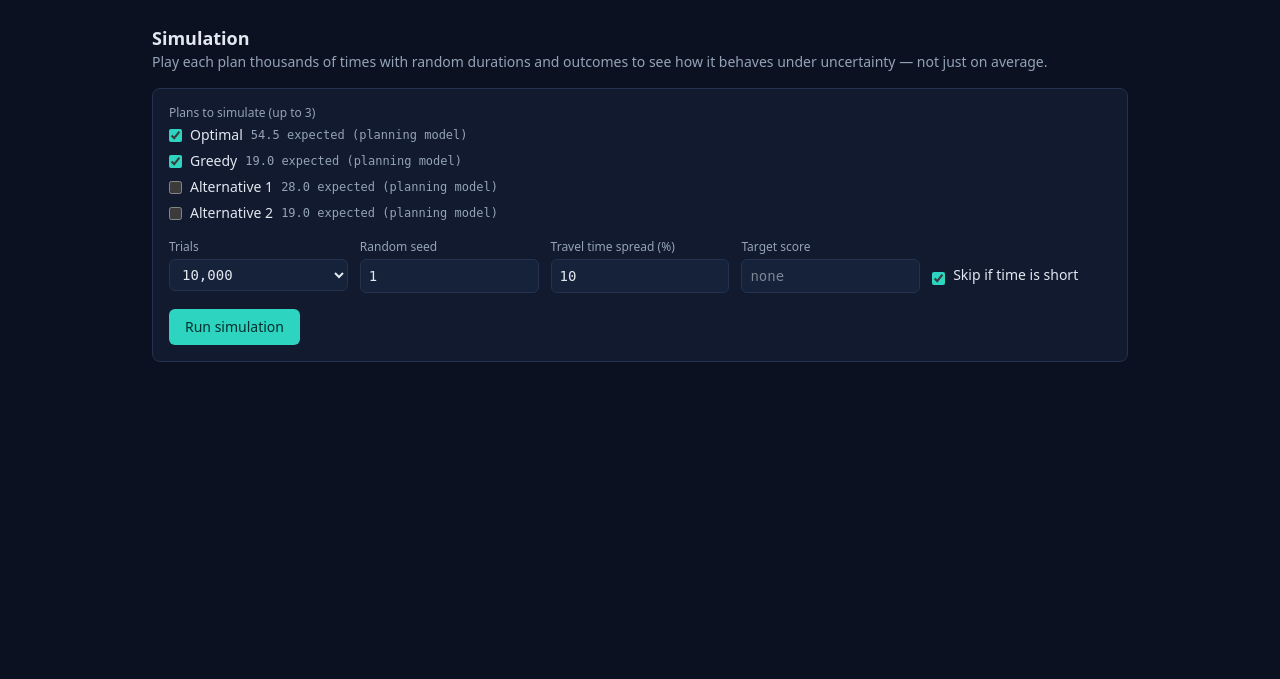
Test: SimulationPage › simulates the optimal and greedy plans by default
Expected: the checkbox labelled "Optimal 54.5 expected (planning model)" is checked, [169,128,182,142]
Expected: the checkbox labelled "Greedy 19.0 expected (planning model)" is checked, [169,154,182,168]
What coordinates should you click on to do the following:
click the button "Run simulation"
I would click on:
 (234, 327)
Its box is [169,309,300,345].
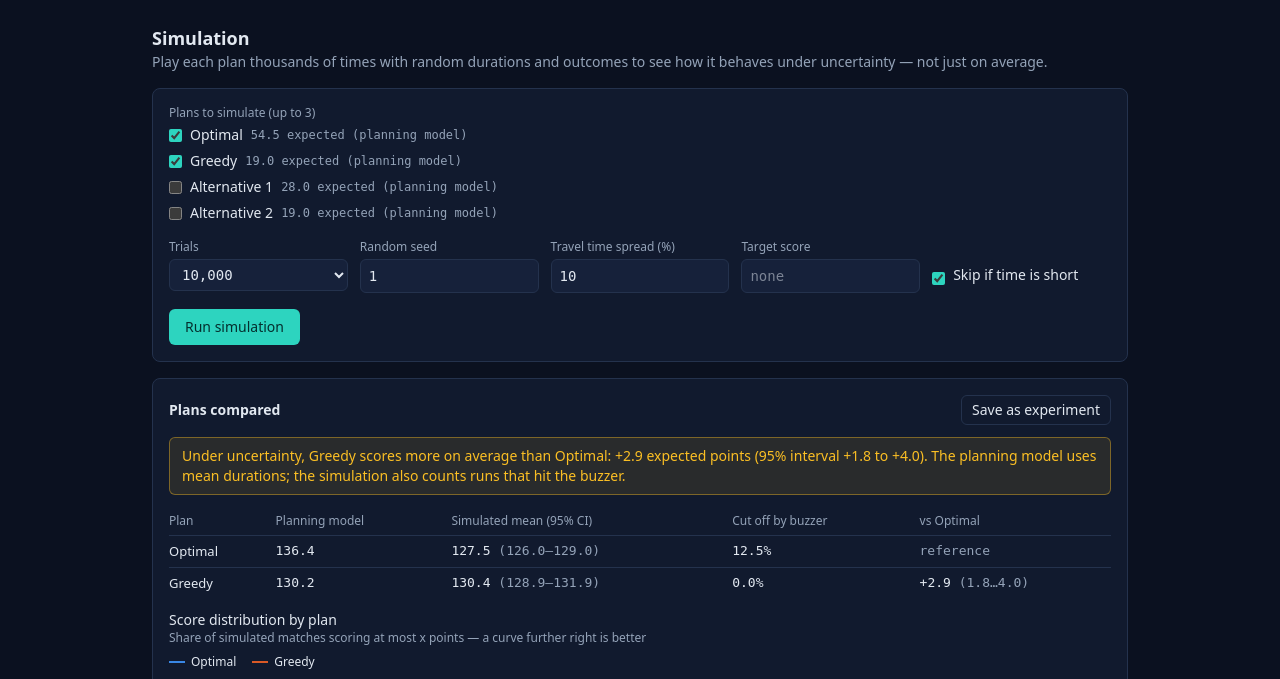
Expected: the heading "Plans compared" is shown, [169,400,280,420]
